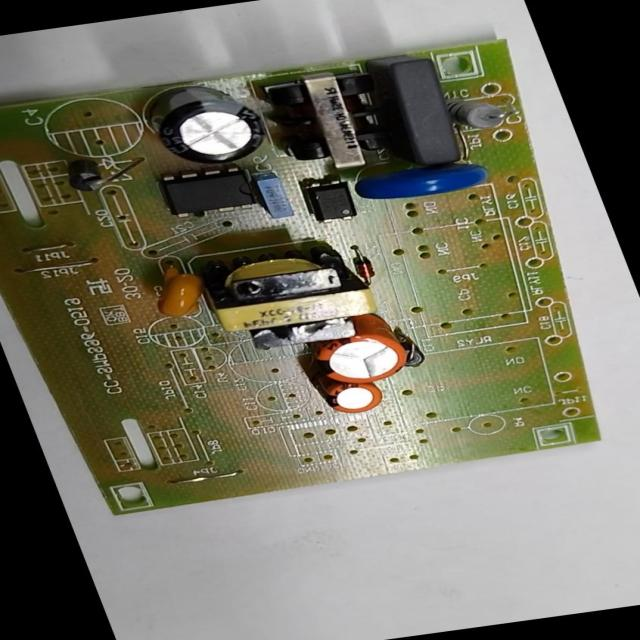Cap1: (312, 329, 413, 387)
Cap2: (313, 373, 389, 418)
Cap3: (147, 76, 274, 168)
MOSFET: (159, 167, 259, 219)
Mov: (354, 165, 496, 205)
Resistor: (450, 98, 510, 130)
Transformer: (197, 238, 386, 352), (262, 69, 398, 173)
